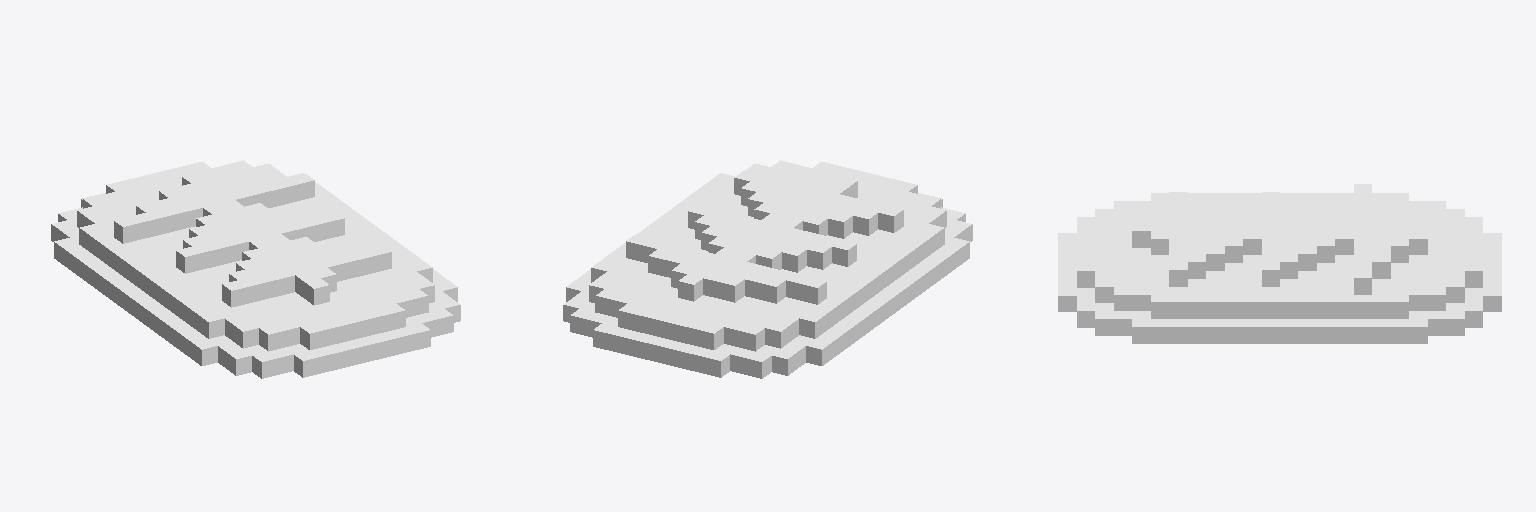
Rendered from runField.obj.
3 renders of one model, left to right at view 1: azimuth 30°, elevation 25°; view 2: azimuth 150°, elevation 25°; view 3: azimuth 270°, elevation 25°, orthographic.
Visible parts, largest first — view 1: ObjObject.011; view 2: ObjObject.011; view 3: ObjObject.011.
Boxes of the visible parts, <box> form: ObjObject.011: <box>51,160,460,378</box>; ObjObject.011: <box>563,160,972,378</box>; ObjObject.011: <box>1058,184,1501,343</box>.
Bounding box in the file's own units: 1.6 × 0.3 × 2.4.